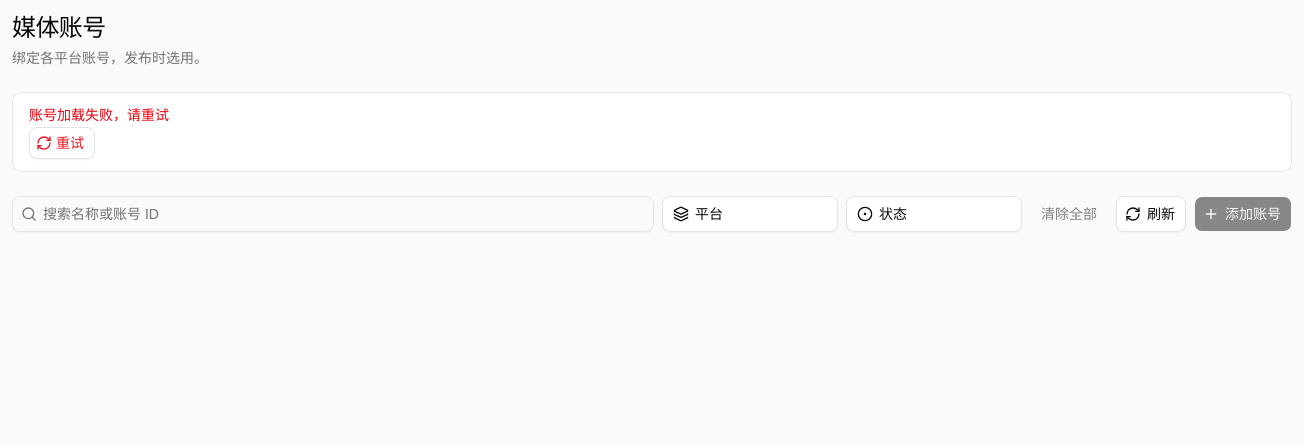
retries initial loading failure without showing an empty state or internal error
This screenshot has width=1304, height=447.
expect the text "账号加载失败，请重试" is shown: met, box [29,107,169,123]
Click the button "重试".
click(62, 143)  # box [29,127,95,159]
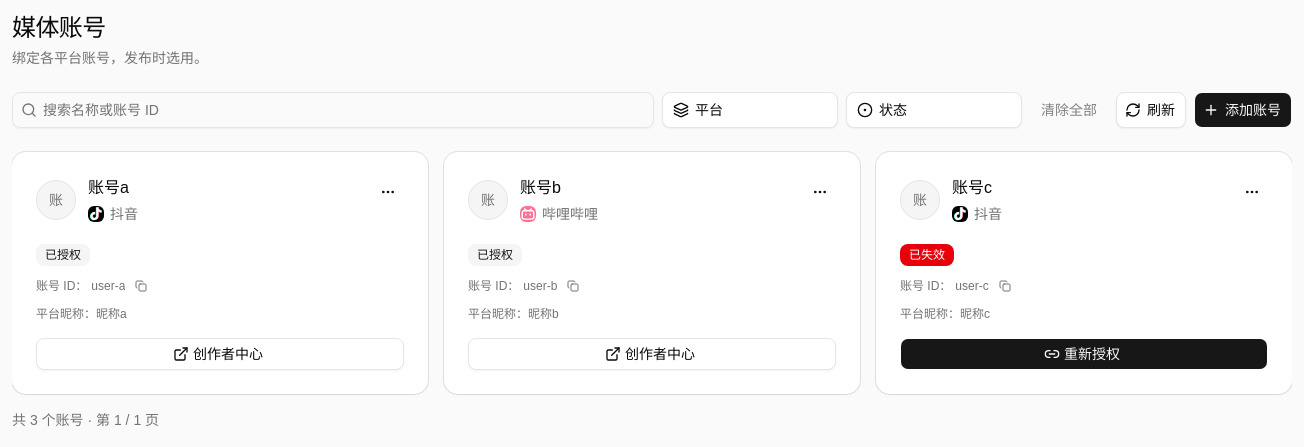
expect the text "共 3 个账号 · 第 1 / 1 页" is shown: met, box [12,410,159,430]
